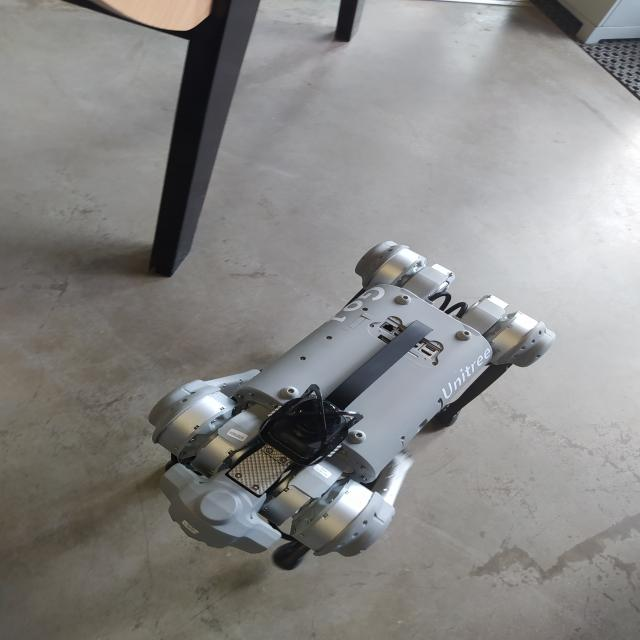unitree-go1-robot: (129, 223, 572, 581)
